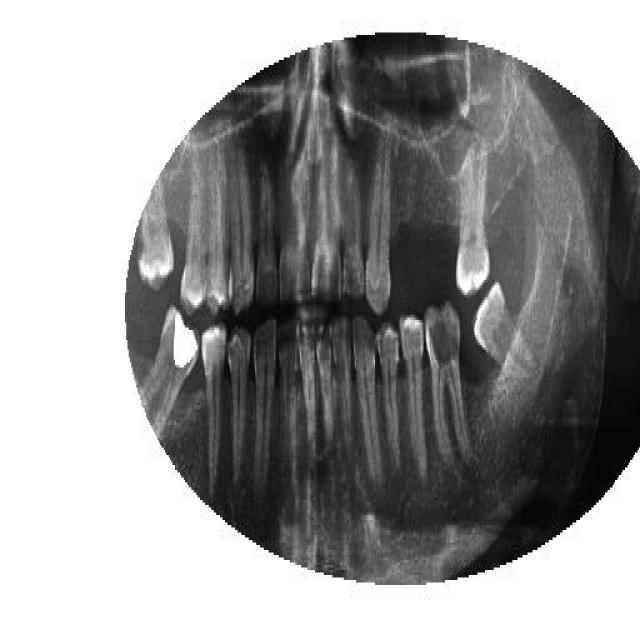Cavity: (425, 300, 470, 468)
Fillings: (140, 305, 198, 435)
Impacted Tooth: (138, 305, 198, 435), (474, 282, 530, 388)
